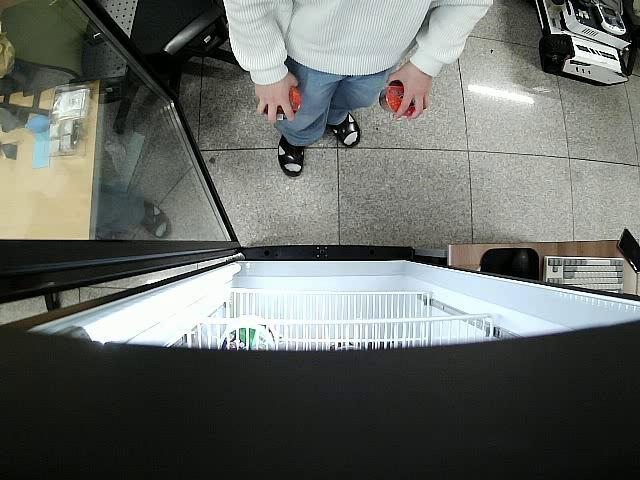02_shinRamen_S: (379, 80, 426, 118), (260, 86, 302, 122)
